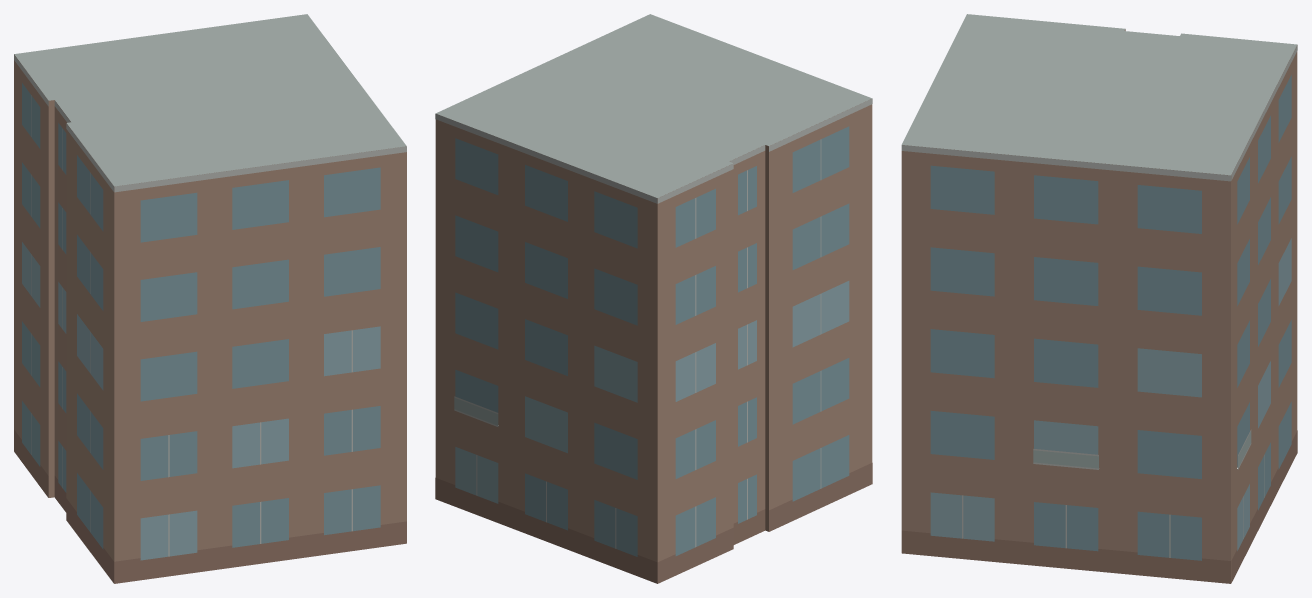
Rendered from survey-upis-32843317.glb.
The picture shows the model from 3 angles, left to right: view 1: azimuth 30°, elevation 25°; view 2: azimuth 150°, elevation 25°; view 3: azimuth 270°, elevation 25°; orthographic projection. The views are drawn at different scales.
Parts seen in each view (by area): view 1: survey-upis-32843317.tmp; view 2: survey-upis-32843317.tmp; view 3: survey-upis-32843317.tmp.
Part boxes in pixels (bbox=[...]): survey-upis-32843317.tmp: bbox=[14, 14, 406, 583]; survey-upis-32843317.tmp: bbox=[435, 14, 872, 583]; survey-upis-32843317.tmp: bbox=[901, 14, 1297, 583].
Bounding box in the file's own units: 13.97 × 16.48 × 14.49.
